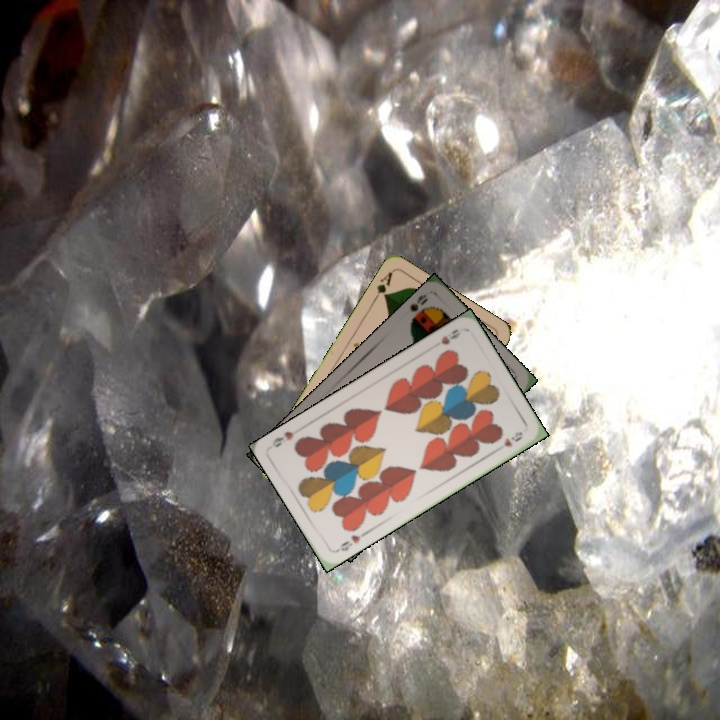GA: (369, 268, 395, 305)
H9: (331, 531, 363, 555), (437, 325, 463, 347)
SO: (406, 290, 431, 327)
